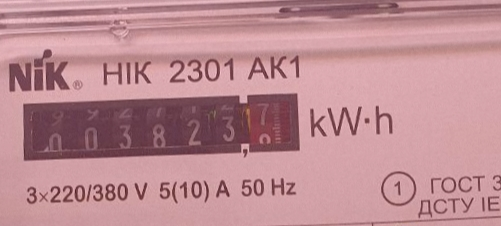0: (79, 122, 100, 150), (45, 128, 64, 152)
2: (183, 114, 204, 147)
3: (218, 112, 238, 143), (114, 119, 134, 149)
7: (255, 100, 272, 129)
8: (148, 119, 167, 148)
9: (46, 107, 65, 127)
screen: (13, 83, 304, 169)
